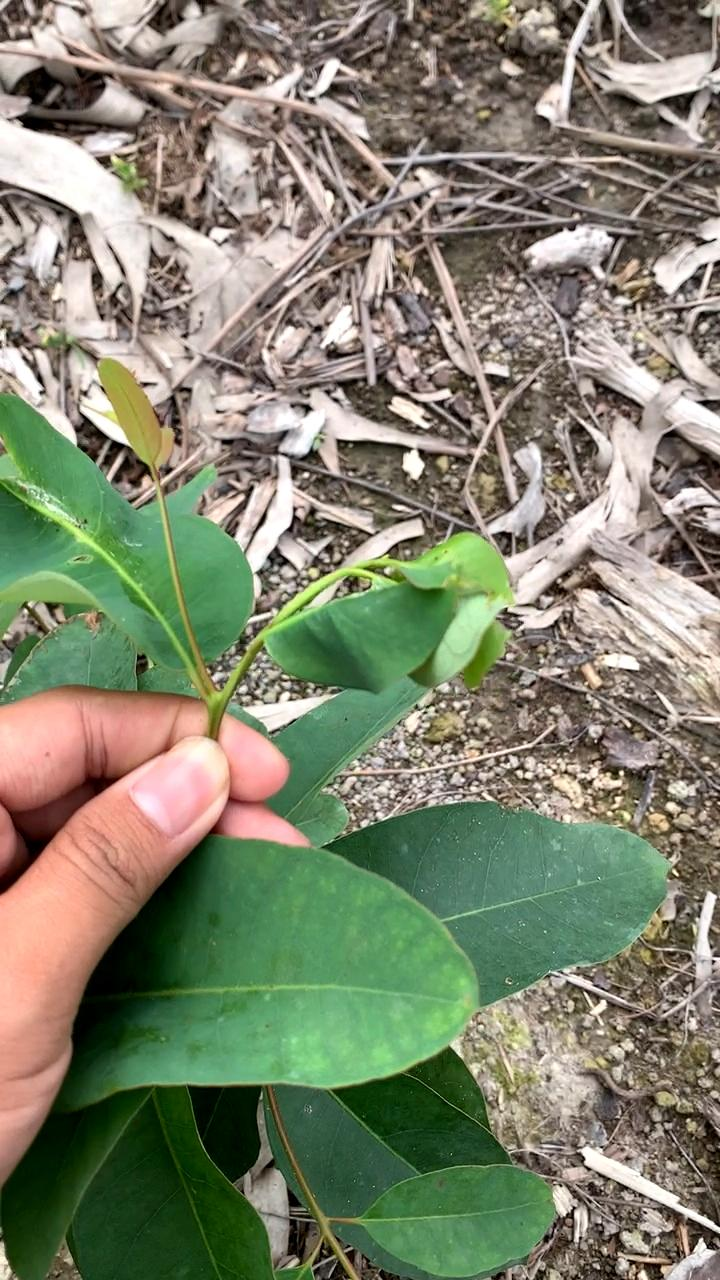Leaf Roller - Leaf: (266, 521, 511, 693)
